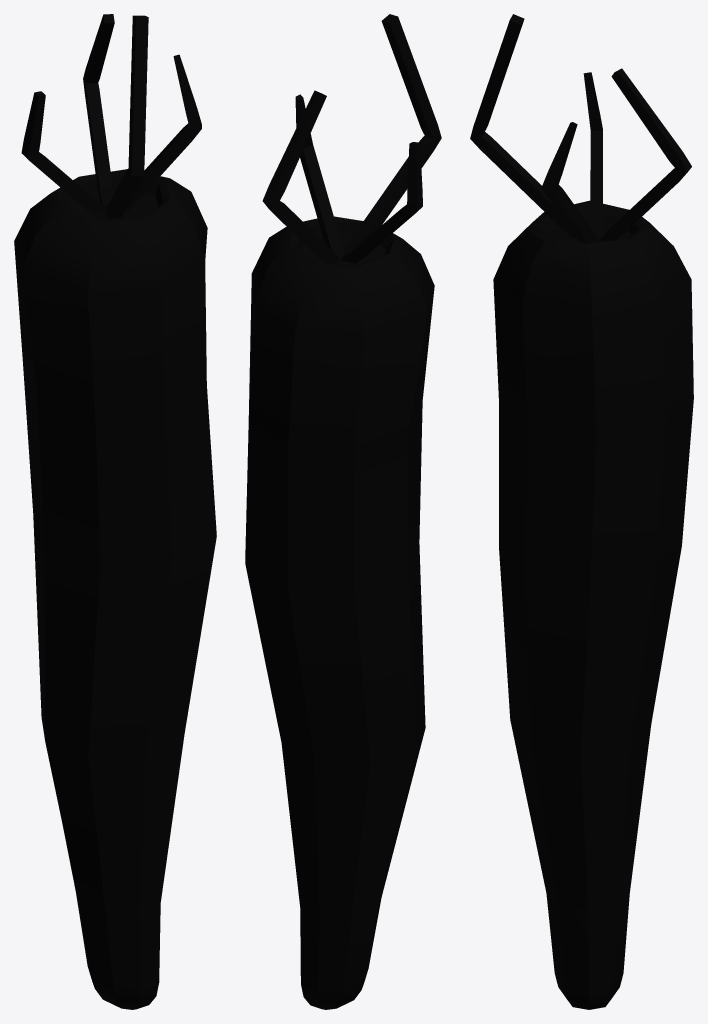
Rendered from Carrot_3.fbx.
The picture shows the model from 3 angles, left to right: view 1: azimuth 30°, elevation 25°; view 2: azimuth 150°, elevation 25°; view 3: azimuth 270°, elevation 25°; orthographic projection. The views are drawn at different scales.
Parts seen in each view (by area): view 1: Carrot_3; view 2: Carrot_3; view 3: Carrot_3.
Part boxes in pixels (x1,y1,x2,y2): Carrot_3: [14, 14, 216, 1009]; Carrot_3: [245, 14, 441, 1009]; Carrot_3: [470, 14, 693, 1009].
Bounding box in the file's own units: 2.32 × 12.21 × 2.54.
